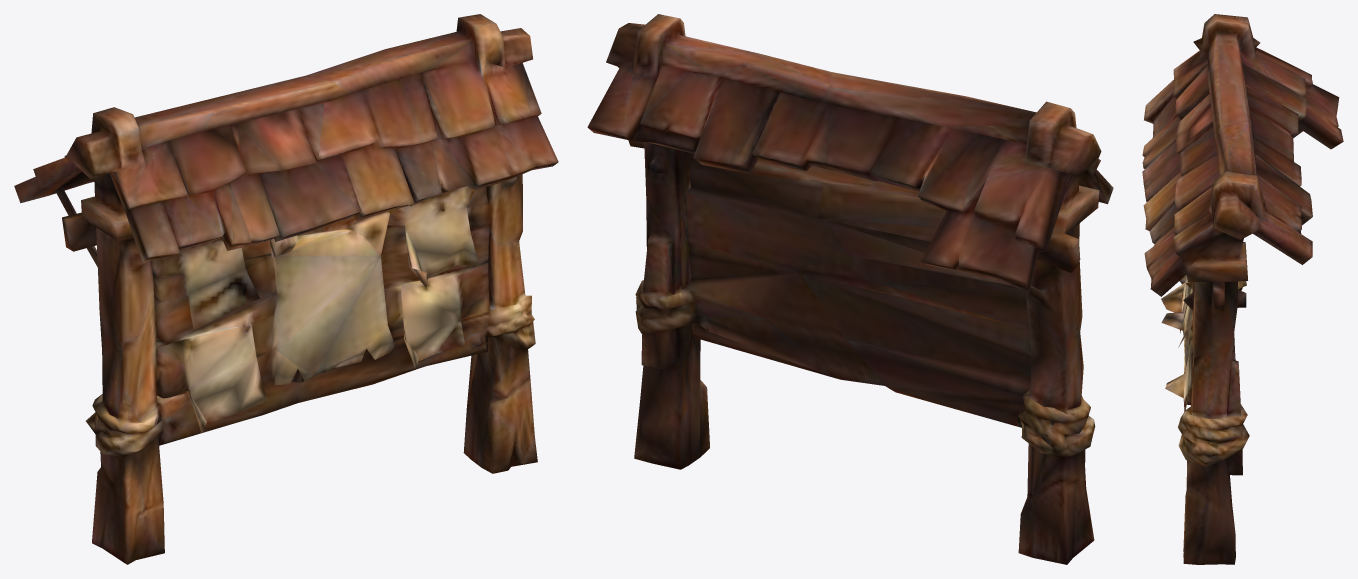
File: prop-notice-board-v2-mobile.glb
3 views of the same model, side by side, from view 1: azimuth 30°, elevation 25°; view 2: azimuth 150°, elevation 25°; view 3: azimuth 270°, elevation 25° (orthographic). The views are drawn at different scales.
Visible parts, largest first — view 1: tripo_node_dccbc77a-4381-4e35-ab4f-065c00020ed0; view 2: tripo_node_dccbc77a-4381-4e35-ab4f-065c00020ed0; view 3: tripo_node_dccbc77a-4381-4e35-ab4f-065c00020ed0.
Part boxes in pixels (x1=…): tripo_node_dccbc77a-4381-4e35-ab4f-065c00020ed0: x1=14, y1=14, x2=558, y2=564; tripo_node_dccbc77a-4381-4e35-ab4f-065c00020ed0: x1=587, y1=14, x2=1113, y2=564; tripo_node_dccbc77a-4381-4e35-ab4f-065c00020ed0: x1=1142, y1=14, x2=1343, y2=564.
Size of the model in its own units: 0.9787 by 0.886 by 0.4265.
1 material, 1 textured.
